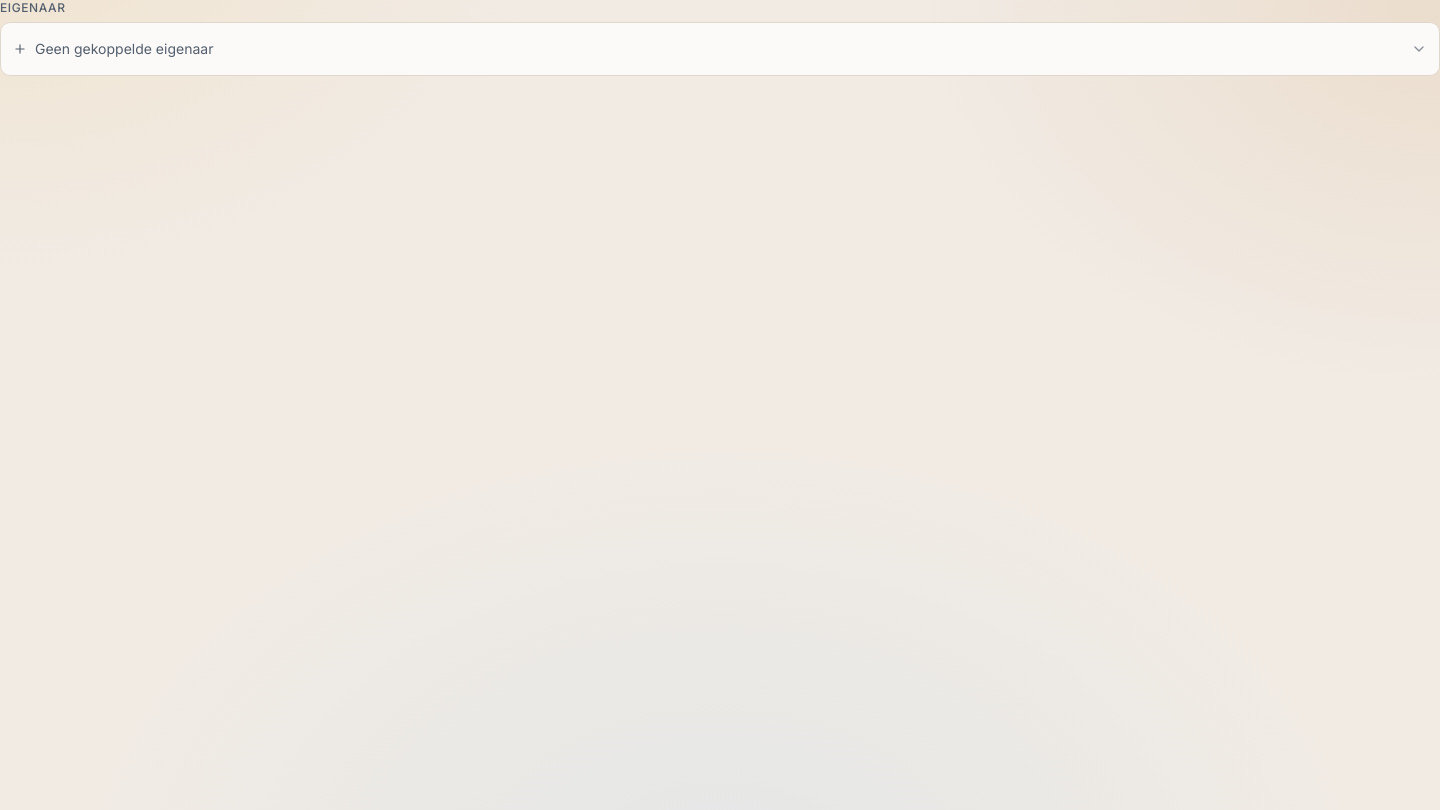
Test: Entiteitskoppelingen zonder zijknop › heeft een volledig aanklikbaar leeg veld en ontkoppelt niet automatisch
Click the button with aria-label "Kiezen: Eigenaar": (124, 48) [5,27,1435,71]
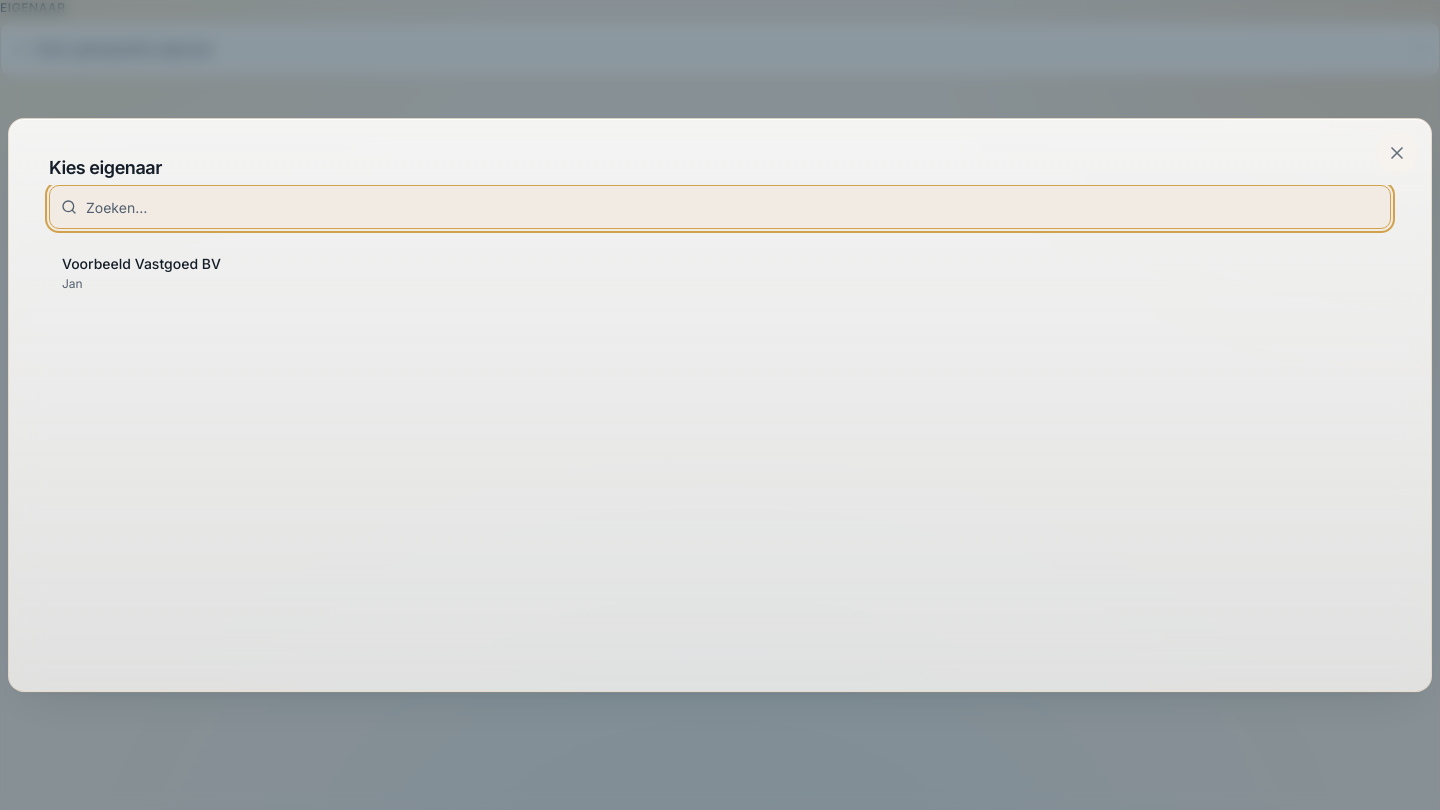
Expected: the dialog "Kies eigenaar" is shown
